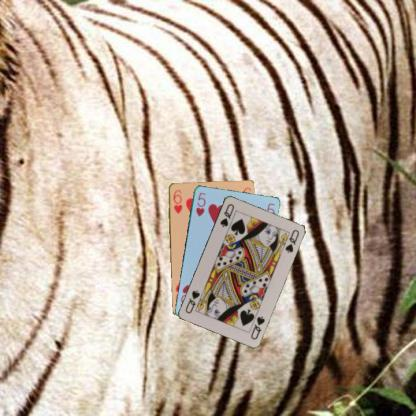5h: (193, 189, 207, 218)
6h: (171, 188, 183, 214)
Qs: (217, 201, 235, 228), (248, 313, 266, 340)
